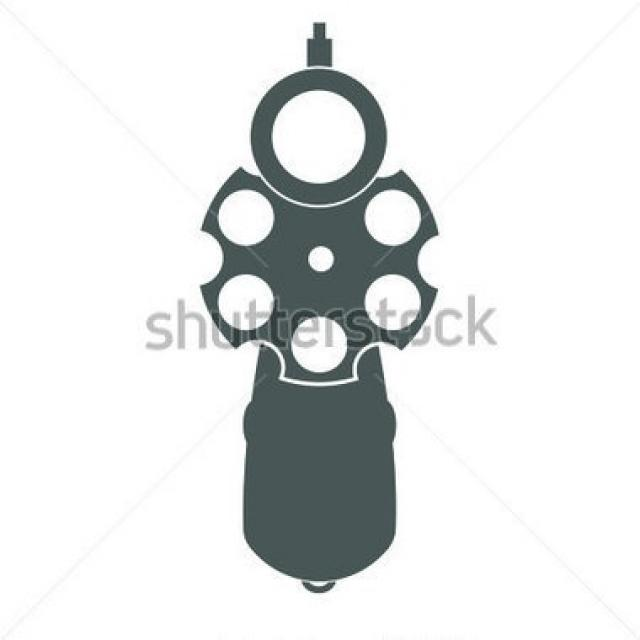gun: (198, 22, 445, 594)
